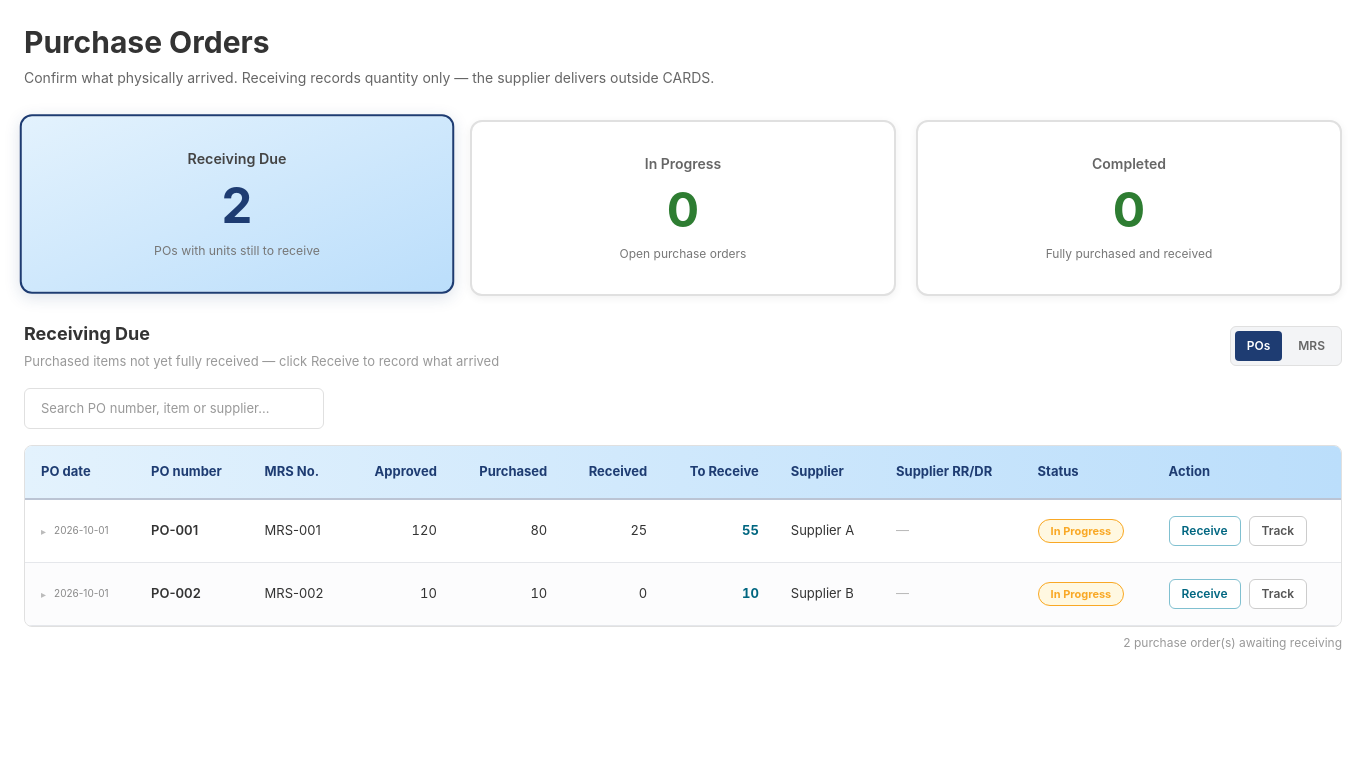
Test: Receiving Due is one row per purchase order › keeps one purchase order open at a time, so the list cannot sprawl
This screenshot has width=1366, height=768.
Expected: the text "PO-001" is shown, [135,498,249,562]
Click the row named "Expand to see its items" at (683, 530), box [25,498,1341,562]
(page scrolled)
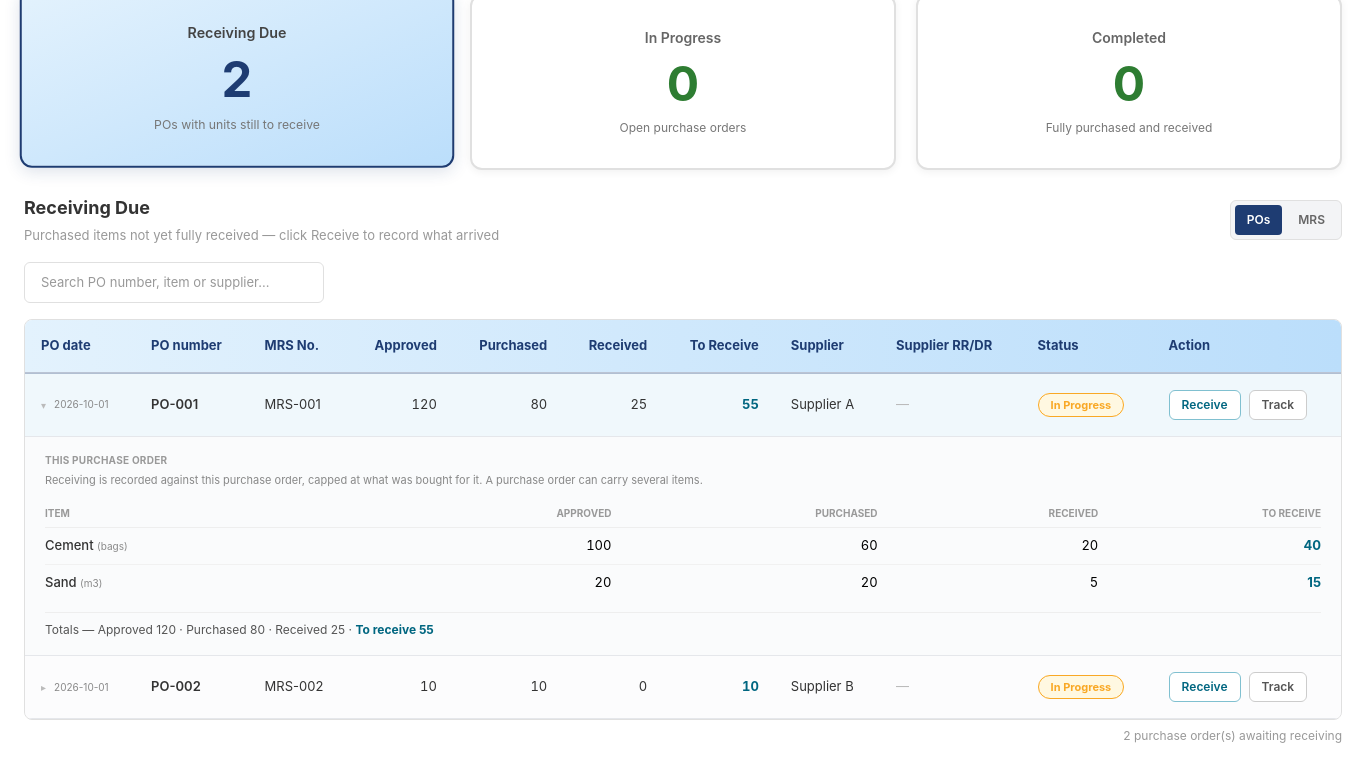
Click the row named "Expand to see its items" at (683, 687), box [25,656,1341,718]
(page scrolled)
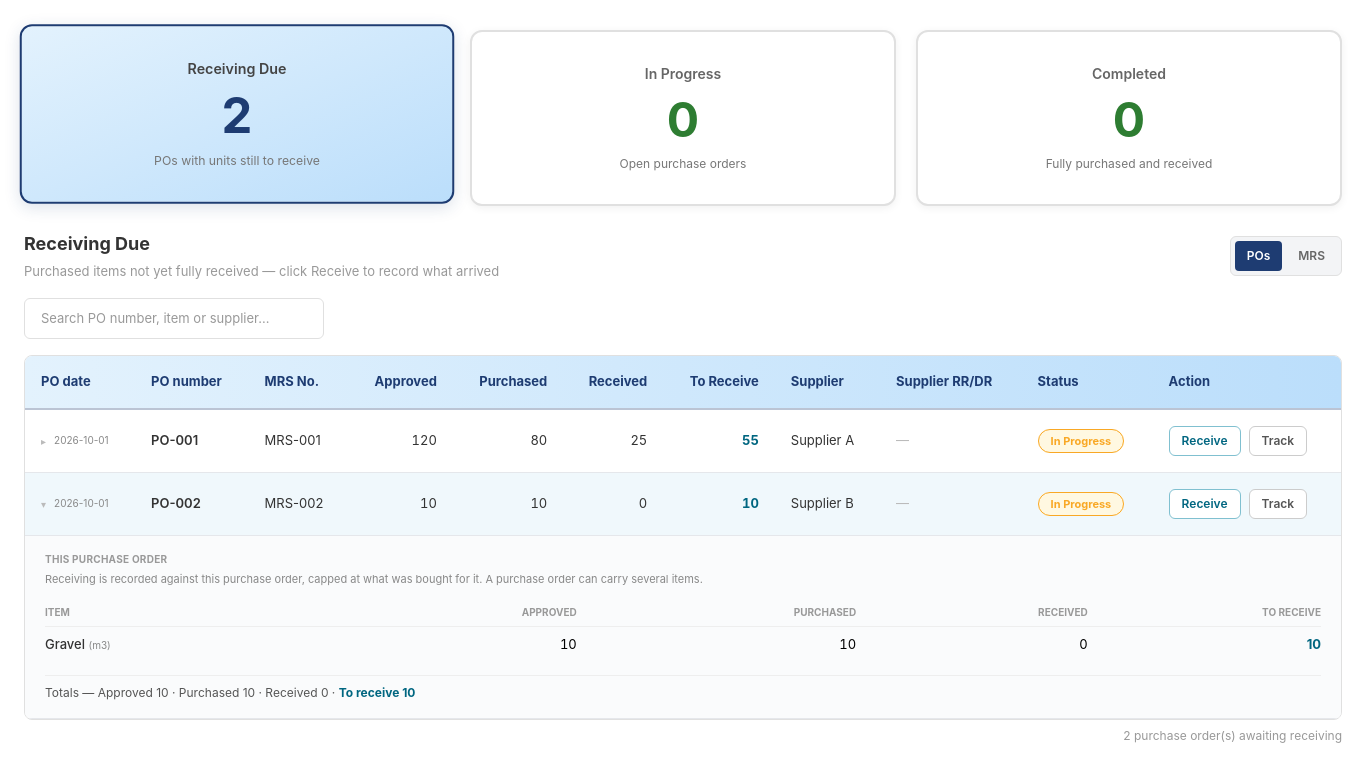
Expected: the row named "Collapse purchase order" is expanded, [25,472,1341,535]
Expected: the row named "Expand to see its items" is collapsed, [25,408,1341,472]
